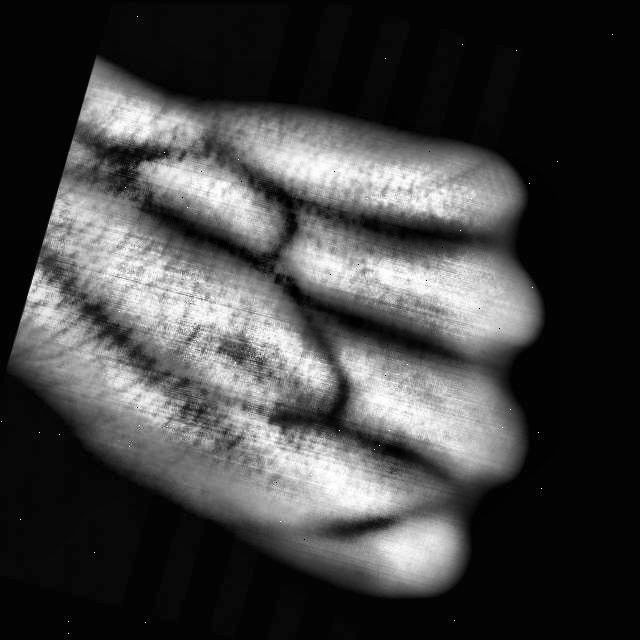Vein: (121, 183, 345, 324)
